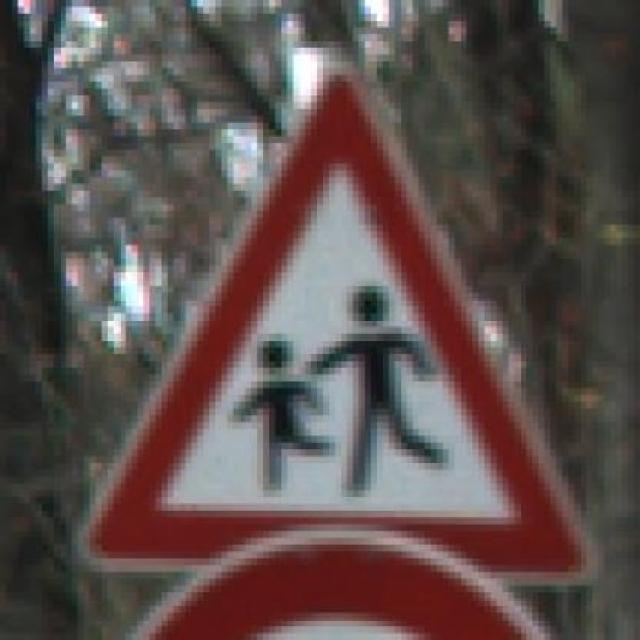Beware of children: (72, 48, 616, 592)
